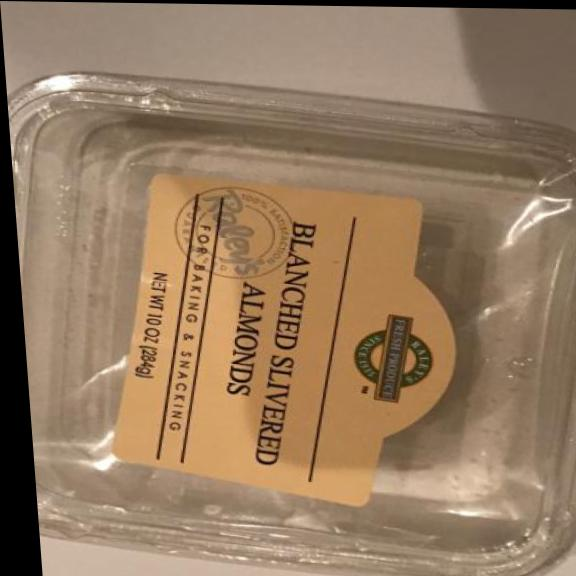Plastik: (5, 65, 576, 576)
